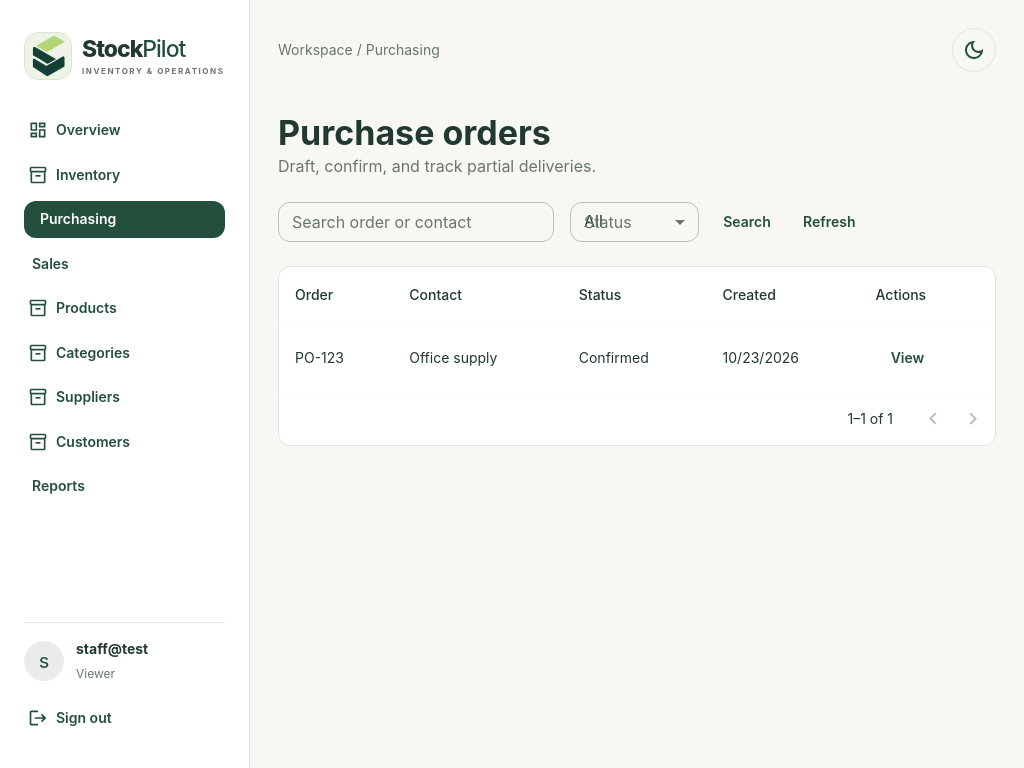
Scenario: shows order details without mutation controls for a viewer
Step 1. Click the button "View" → (908, 358), box [876,340,940,376]
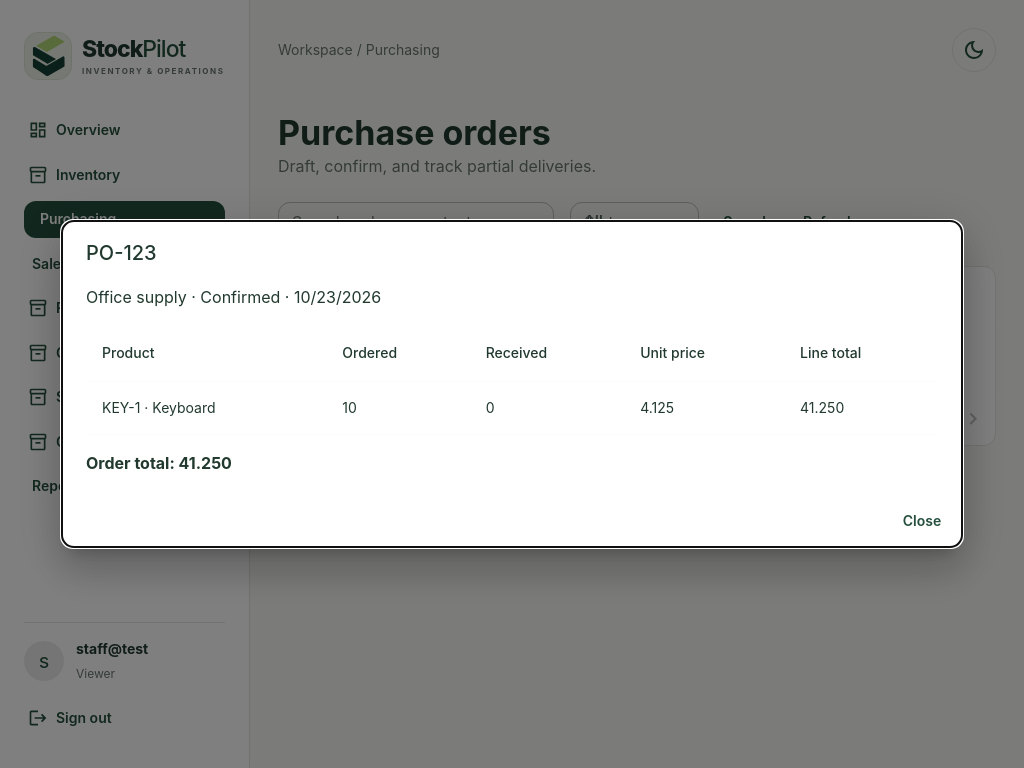
Expected: the table named "Order lines" is shown, [86,325,938,435]
